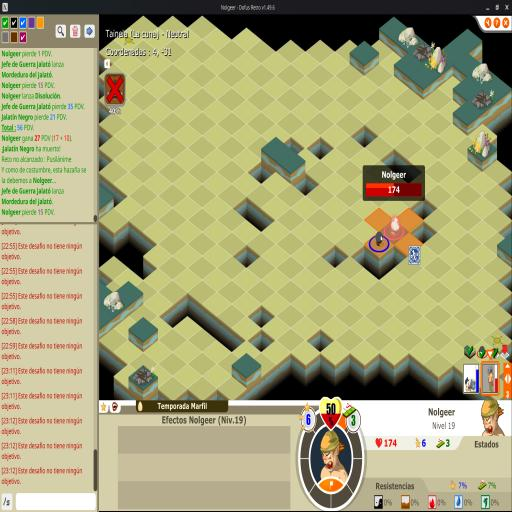Enemigos: (376, 231, 384, 247)
Personaje: (390, 216, 400, 236)
